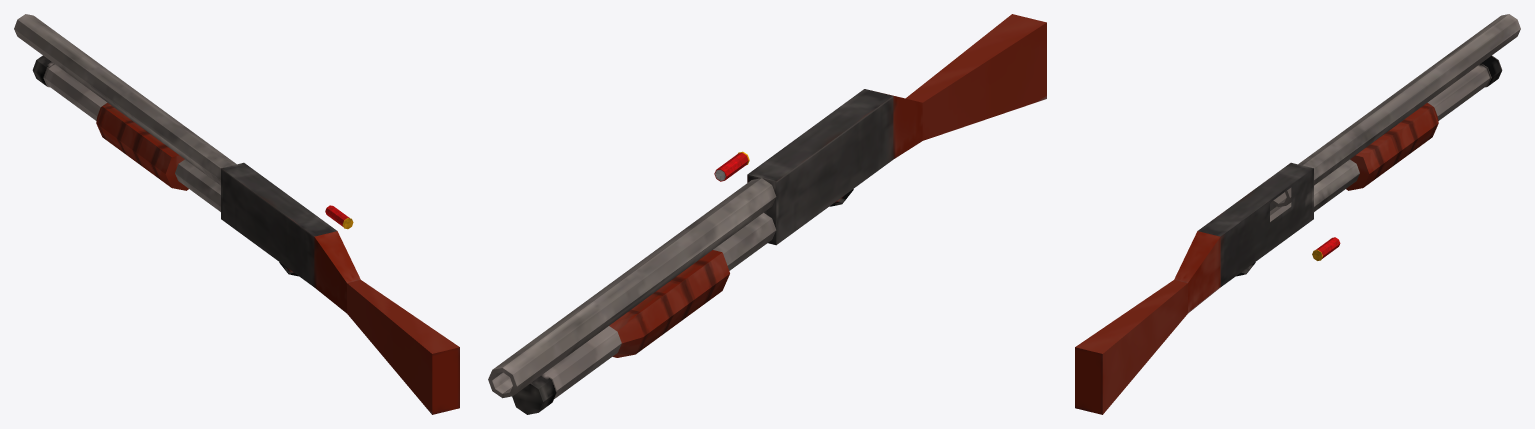
Rendered from shotgun.obj.
The picture shows the model from 3 angles, left to right: view 1: azimuth 30°, elevation 25°; view 2: azimuth 150°, elevation 25°; view 3: azimuth 330°, elevation 25°; orthographic projection. The views are drawn at different scales.
Visible parts, largest first — view 1: shotgun, pump; view 2: shotgun, pump, shell; view 3: shotgun, pump.
Part boxes in pixels (box(x1,y1,x2,y2)): shotgun: box(14, 14, 459, 414); pump: box(96, 103, 188, 190); shotgun: box(488, 14, 1046, 414); pump: box(609, 250, 729, 357); shell: box(714, 151, 749, 181); shotgun: box(1075, 14, 1520, 414); pump: box(1346, 103, 1438, 190).
Size of the model in its own units: 3.95 by 3.71 by 31.5.
Materials: 2 (2 with a texture image).
